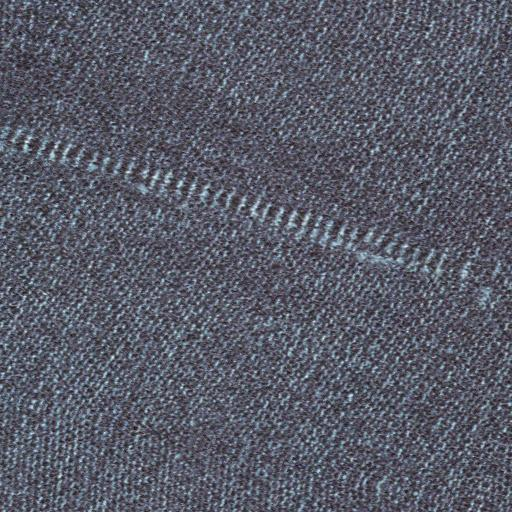slub: (1, 114, 471, 283)
